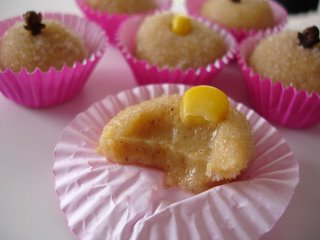corn: (179, 84, 230, 125), (170, 13, 194, 37)
